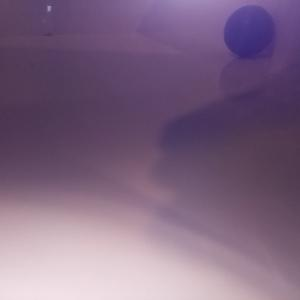alive_ball: (33, 2, 62, 35)
dead_ball: (223, 5, 274, 58)
